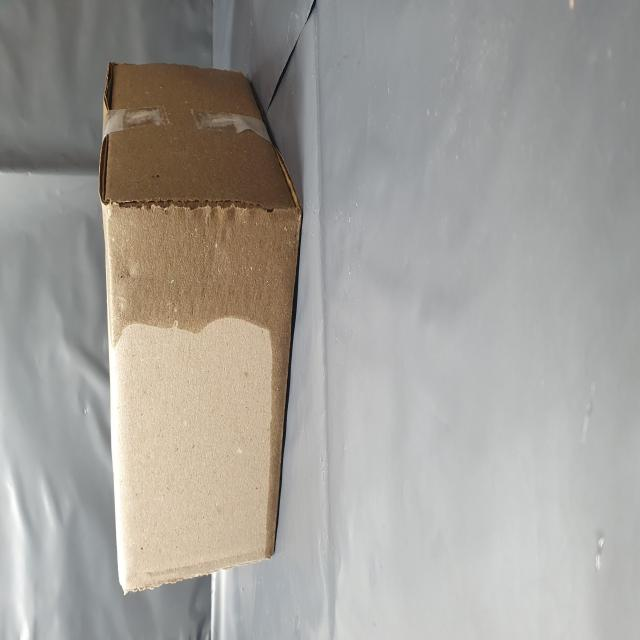wet: (156, 183, 326, 521)
